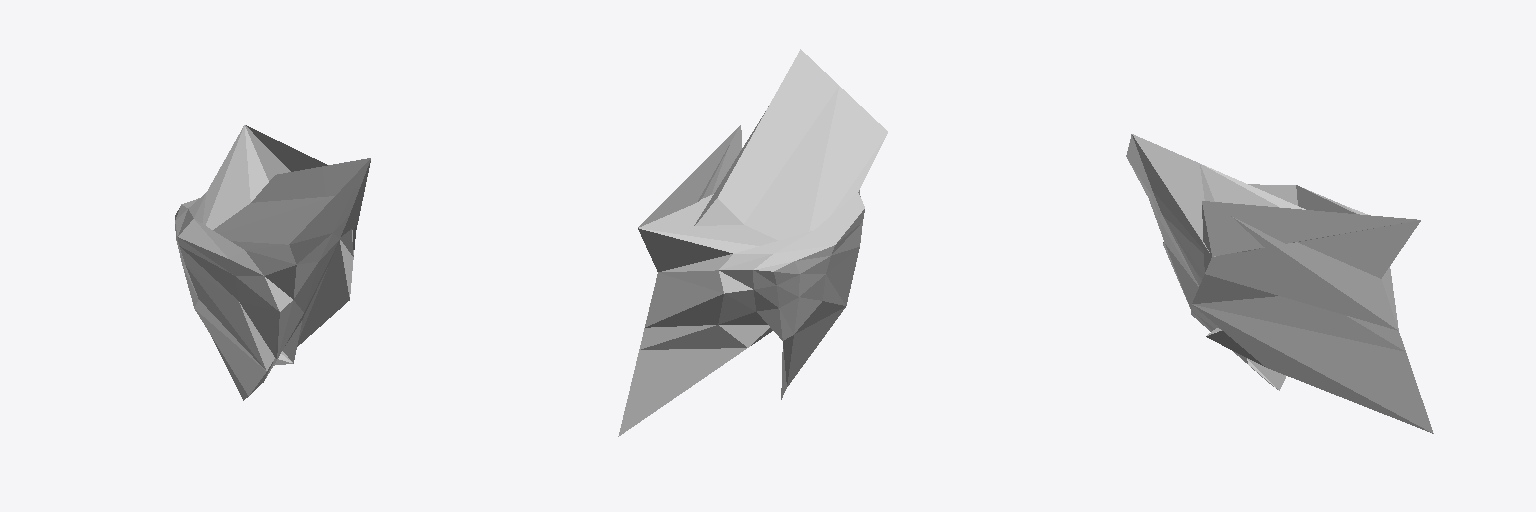
File: worldstone_shard.obj
3 views of the same model, side by side, from view 1: azimuth 30°, elevation 25°; view 2: azimuth 150°, elevation 25°; view 3: azimuth 270°, elevation 25° (orthographic).
Parts seen in each view (by area): view 1: Cube; view 2: Cube; view 3: Cube.
Part boxes in pixels (x1,y1,x2,y2): Cube: (175, 125, 370, 400); Cube: (618, 49, 887, 436); Cube: (1126, 134, 1433, 433).
Bounding box in the file's own units: 1.82 × 3.41 × 3.34.